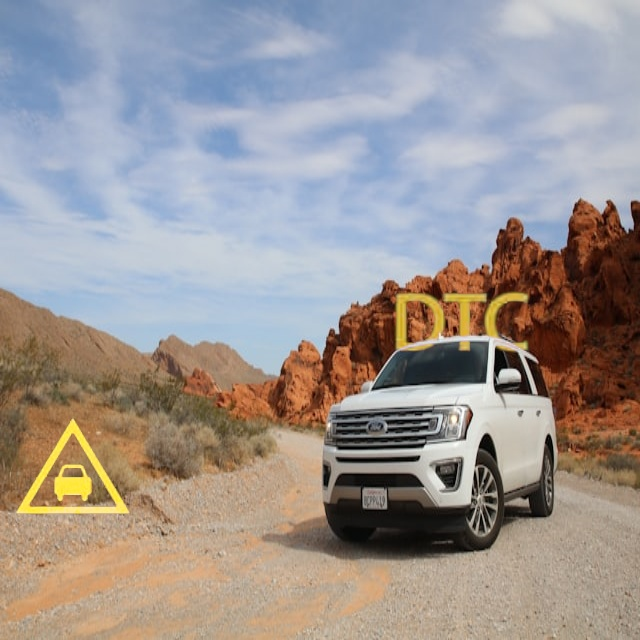symbol: (359, 221, 565, 427), (2, 398, 143, 539)
